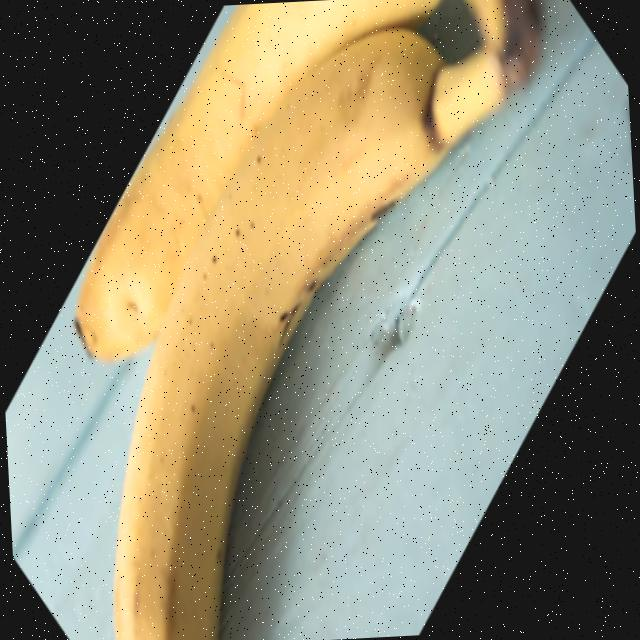Ripe: (79, 15, 542, 640)
